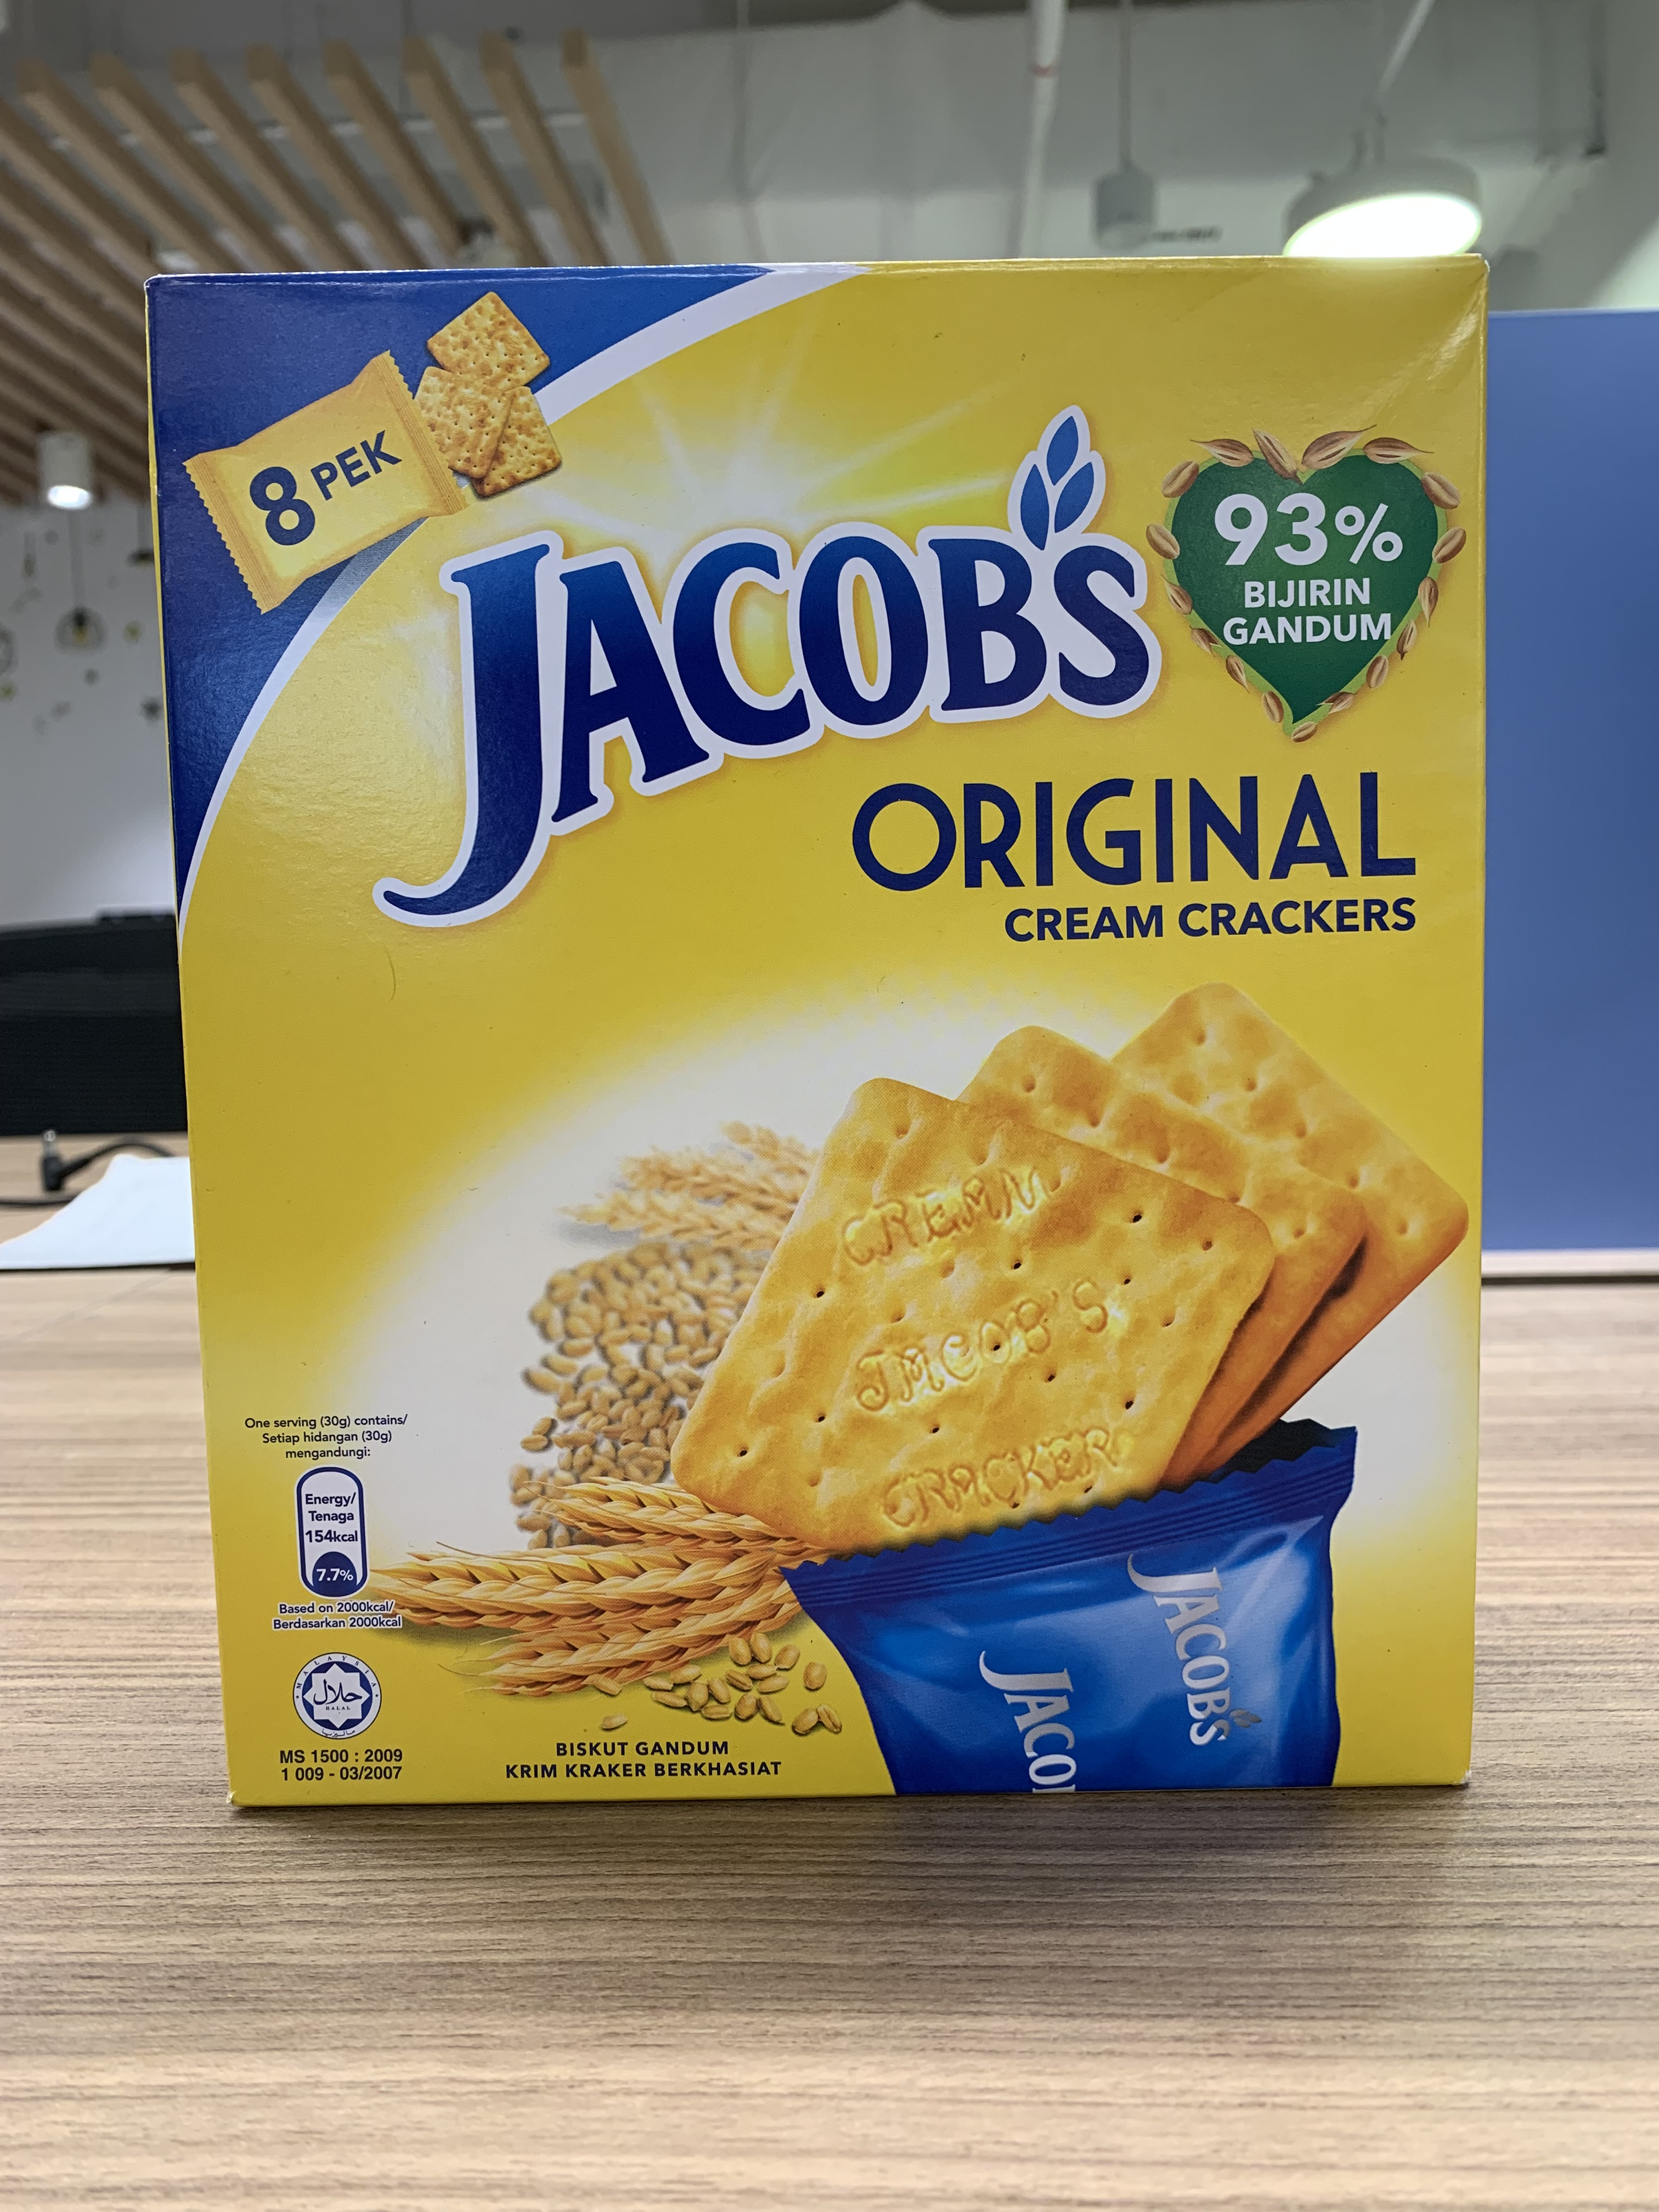crackers_200g-299g: (190, 284, 1462, 1771)
